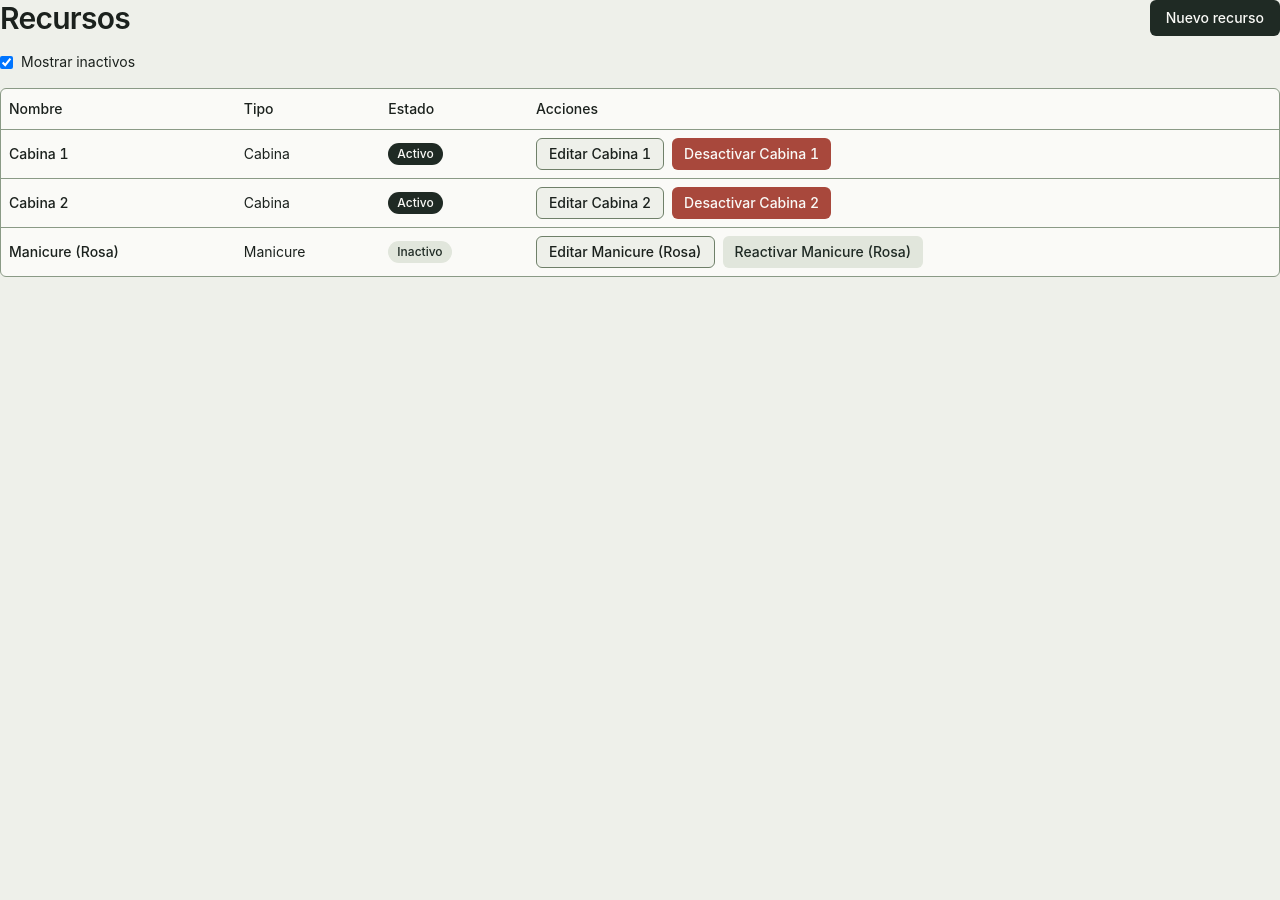
Test case: ResourcesPage › crea un recurso desde el formulario
Check: the row "Cabina 1 Cabina Activo Editar Cabina 1 Desactivar Cabina 1" is shown, box [1,130,1279,178]
Click the button "Nuevo recurso" at (1215, 18), box [1150,0,1279,36]
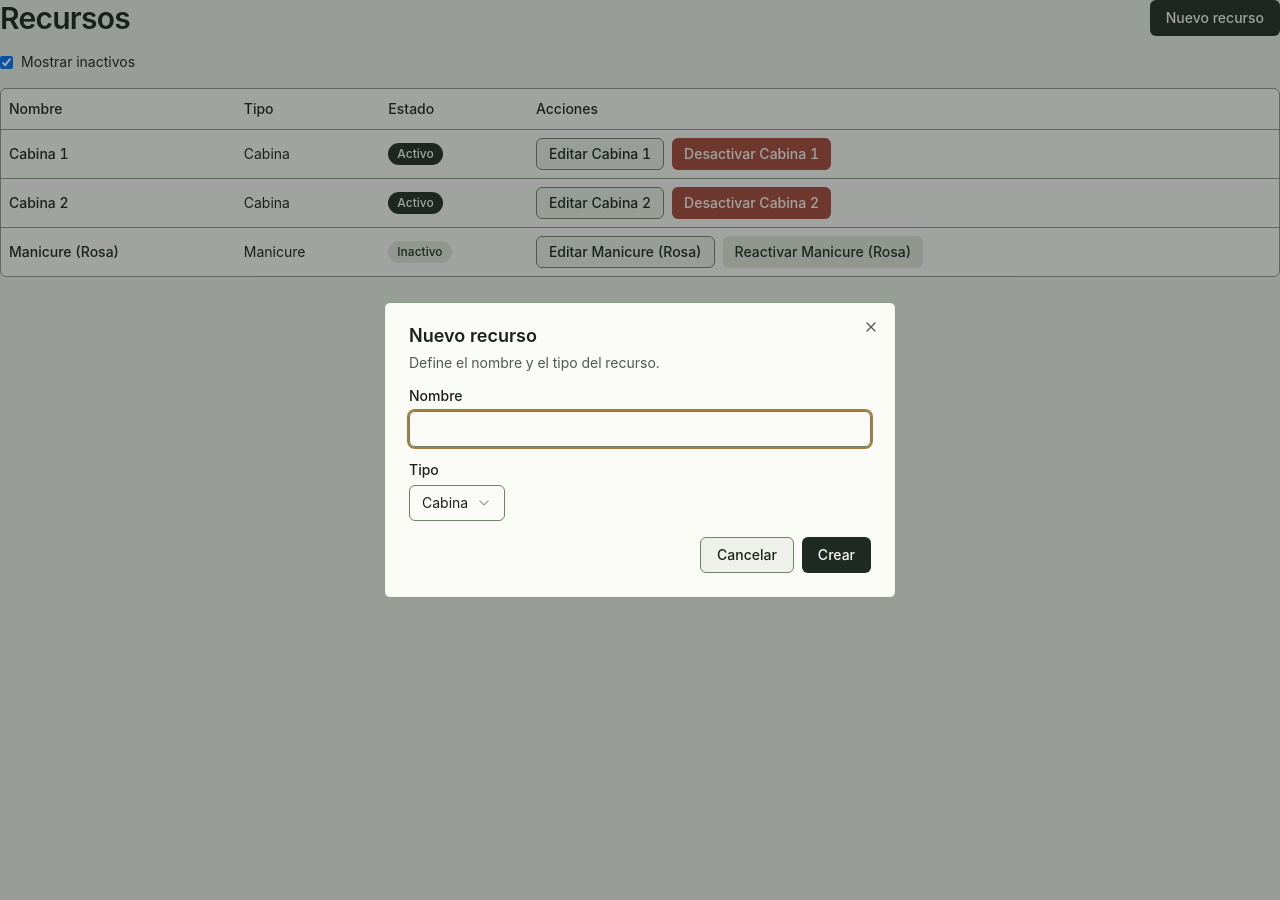
Type "Cabina 3" into the field labelled "Nombre" at (640, 429), box [409,411,871,447]
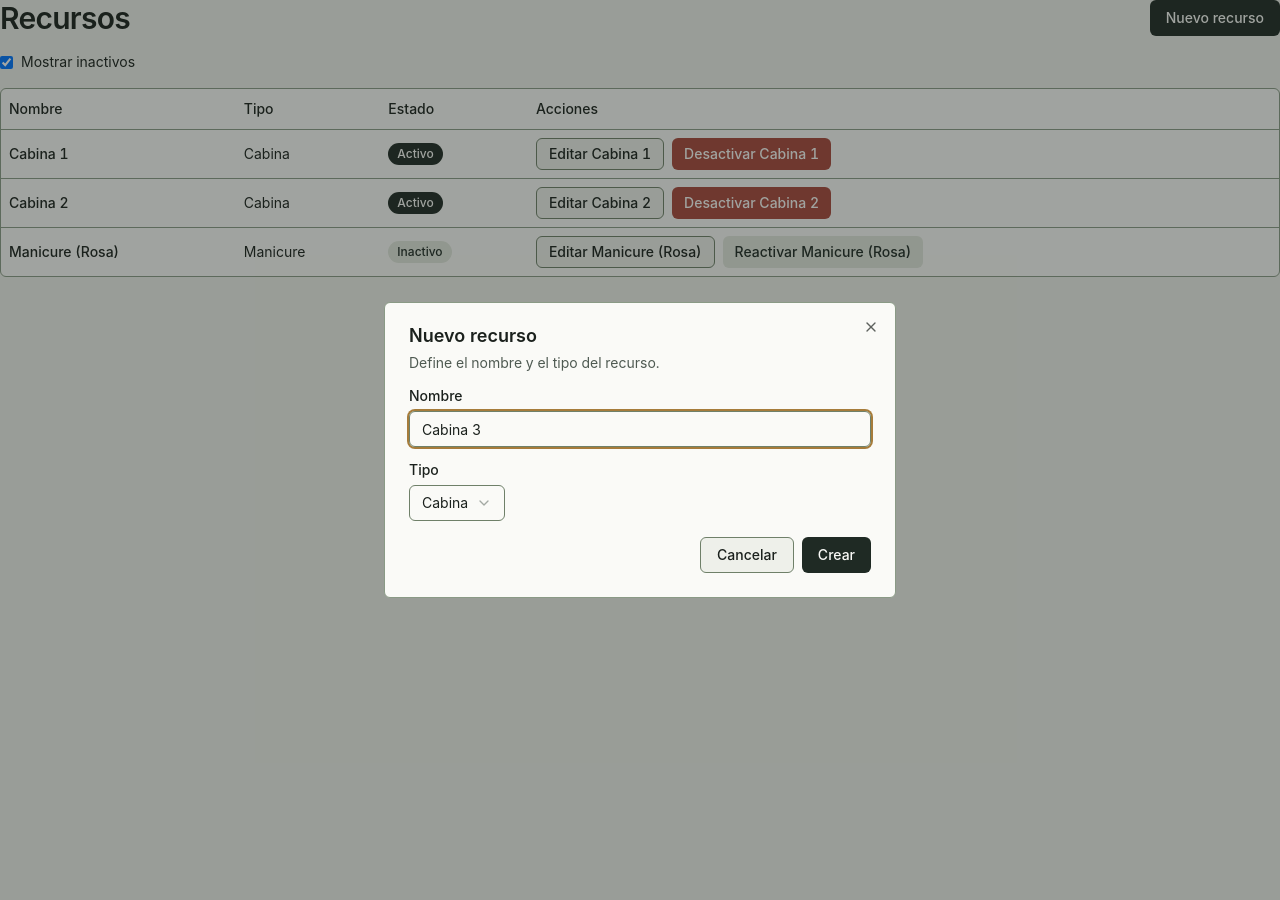
Click the button "Crear" at (836, 555), box [802,537,871,573]
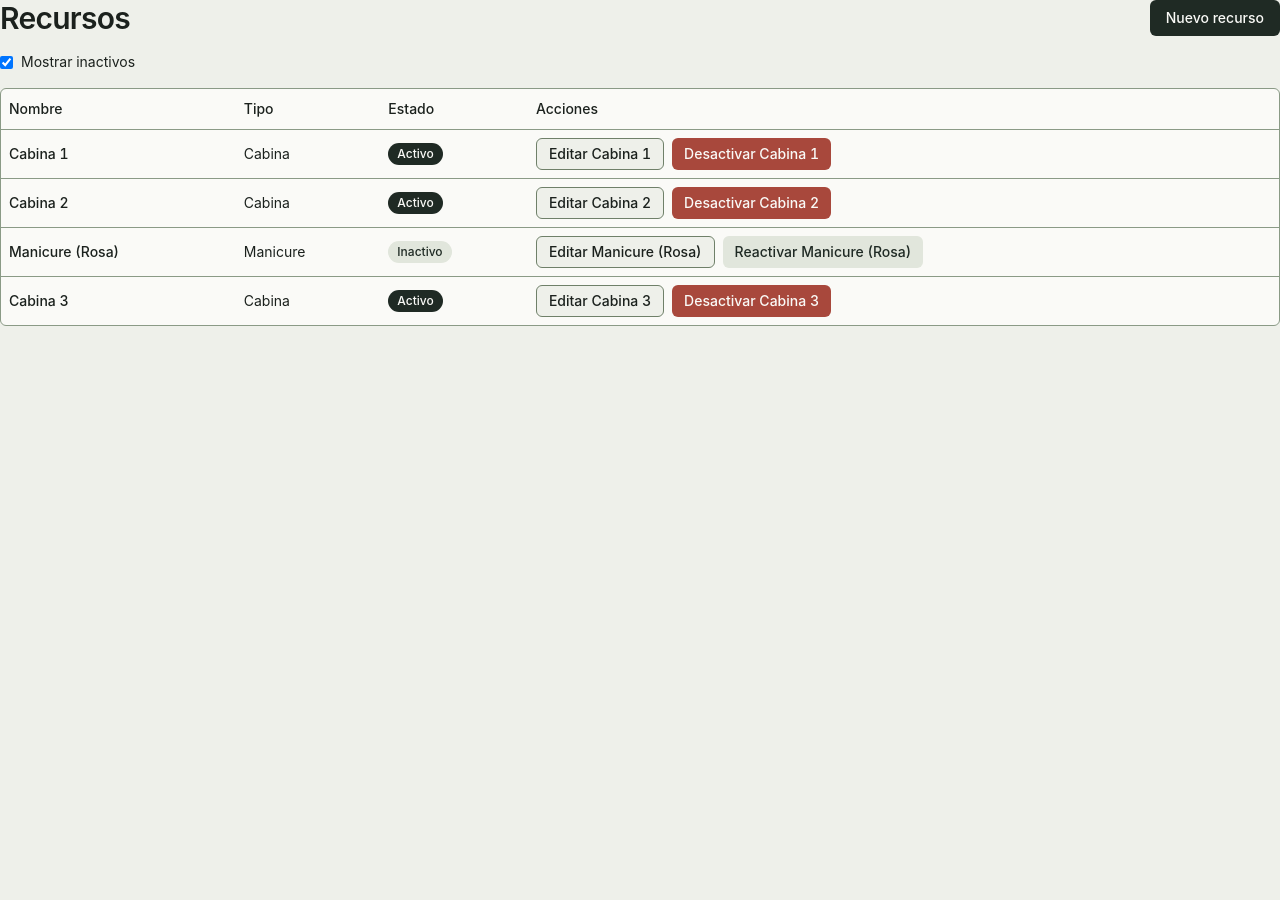
Check: the row "Cabina 3 Cabina Activo Editar Cabina 3 Desactivar Cabina 3" is shown, box [1,276,1279,324]
Check: the dialog is gone
